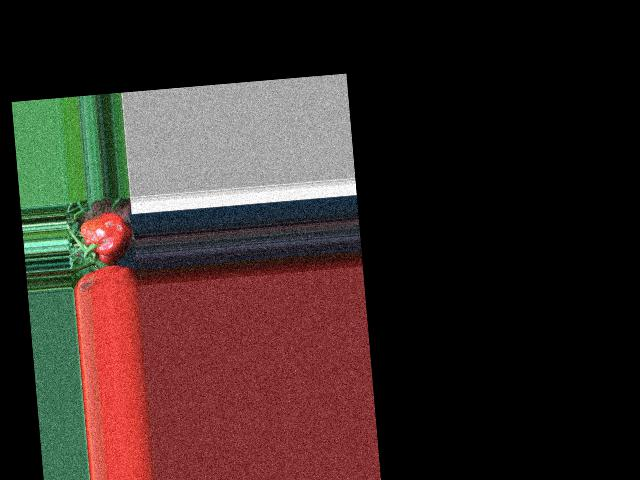bell_pepper: (74, 213, 136, 266)
